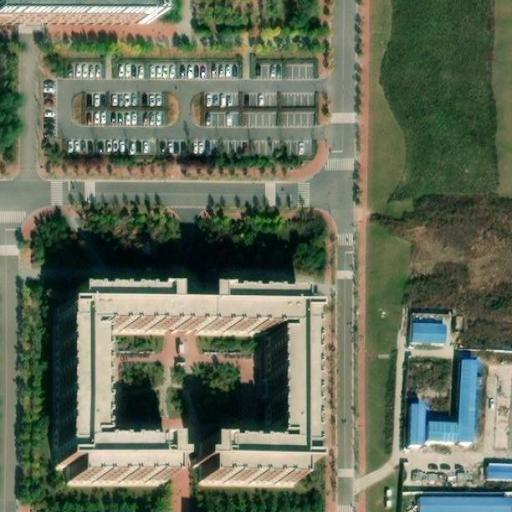building: (59, 283, 307, 482), (458, 359, 477, 440), (421, 496, 509, 512), (411, 323, 446, 345), (411, 403, 425, 446), (429, 422, 458, 441), (489, 463, 512, 480)
